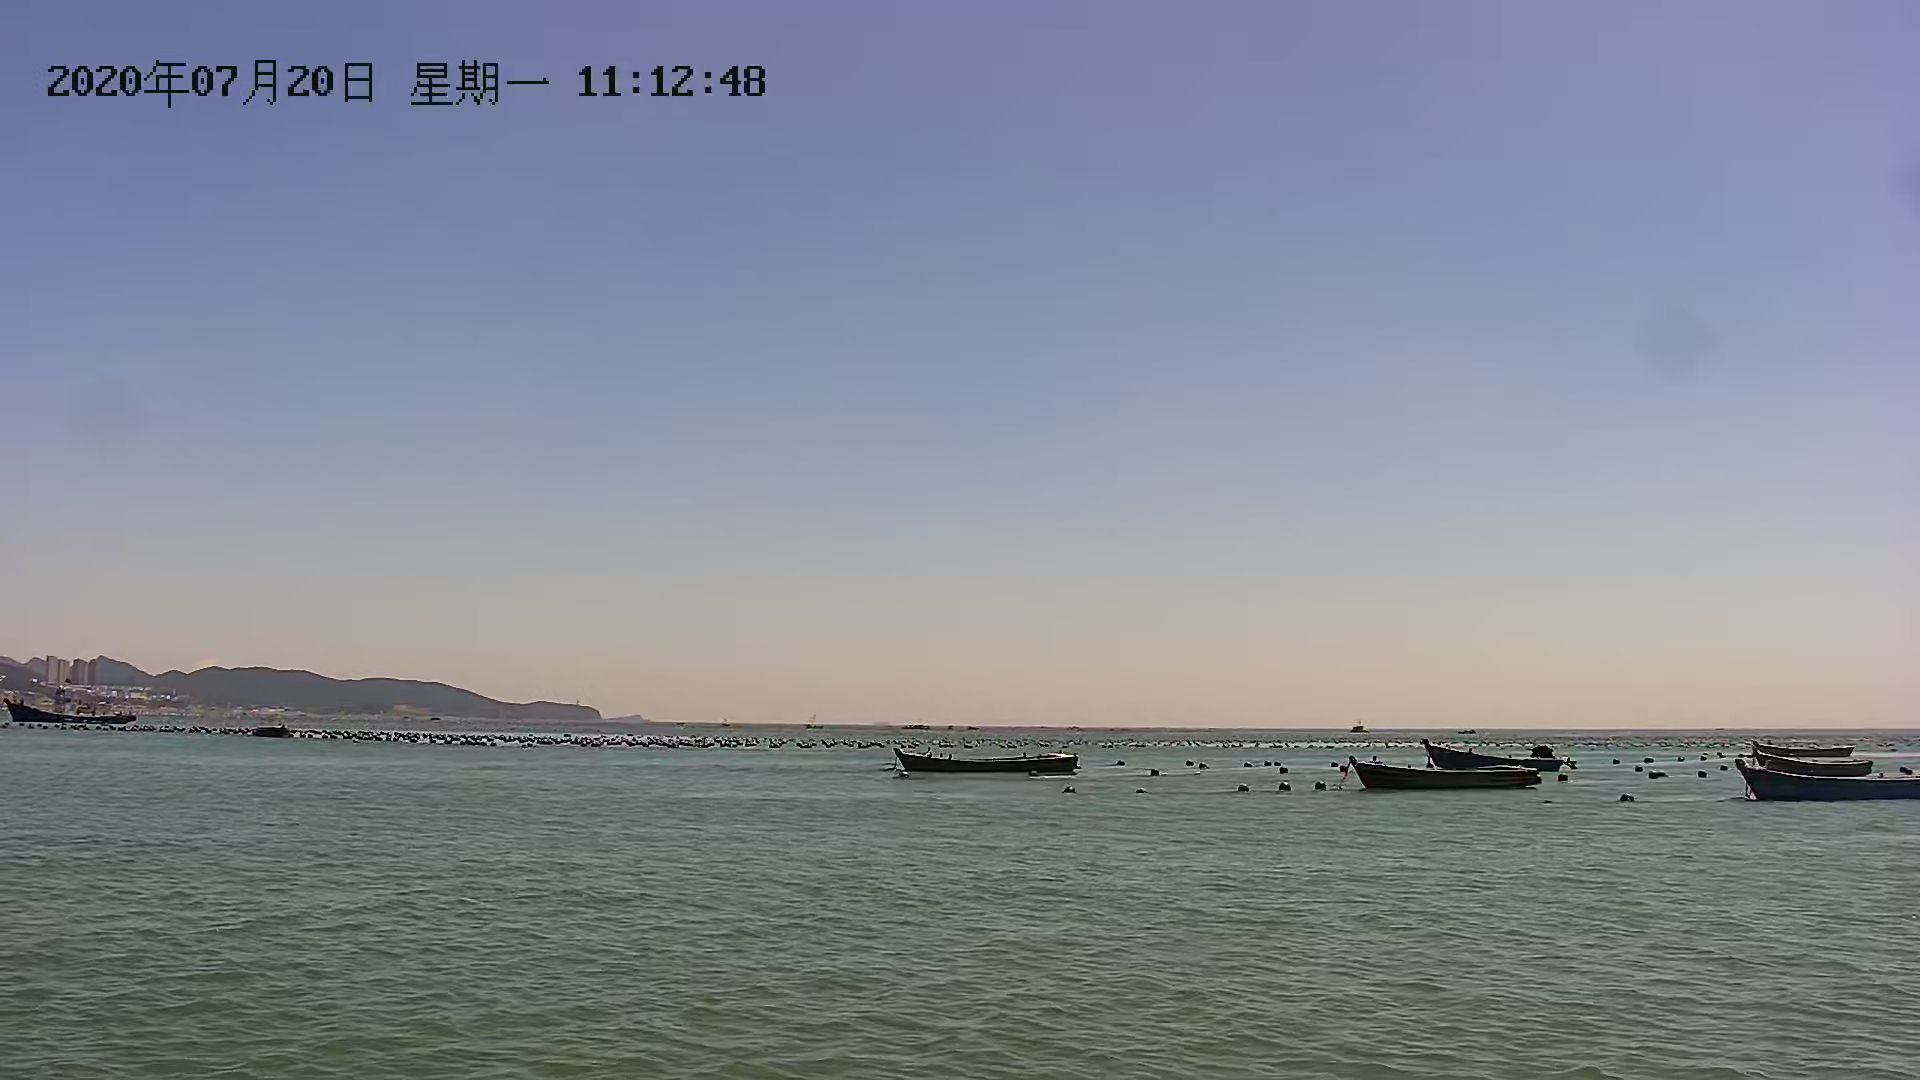boat: (1742, 742, 1919, 803), (884, 741, 1080, 778), (1344, 758, 1542, 790), (1422, 742, 1563, 781), (11, 688, 137, 731)
rock: (1, 651, 661, 732)
